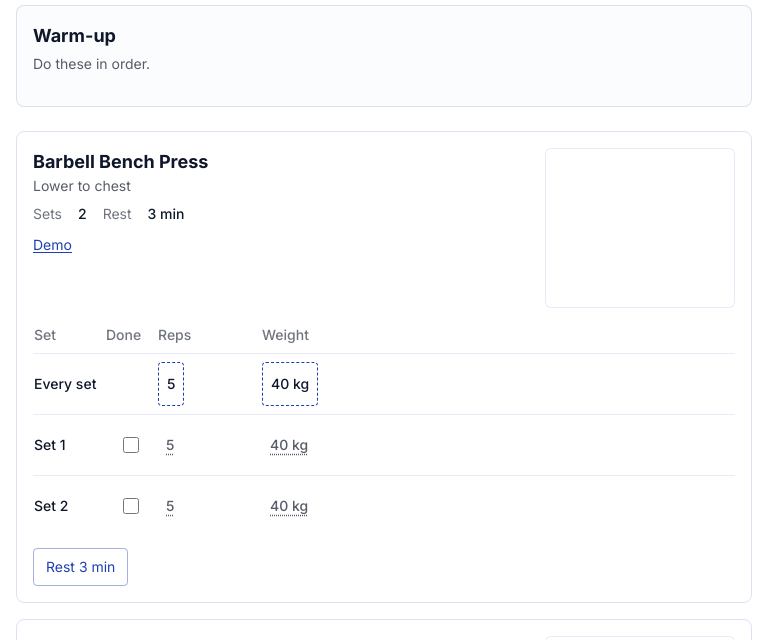
Test case: WorkoutApp › should warn that an adjustment reaches the other day sharing the exercise
(page scrolled)
Click the button named "change weight for every set of Barbell Bench Press" at coordinates (290, 384), box [262, 362, 318, 406]
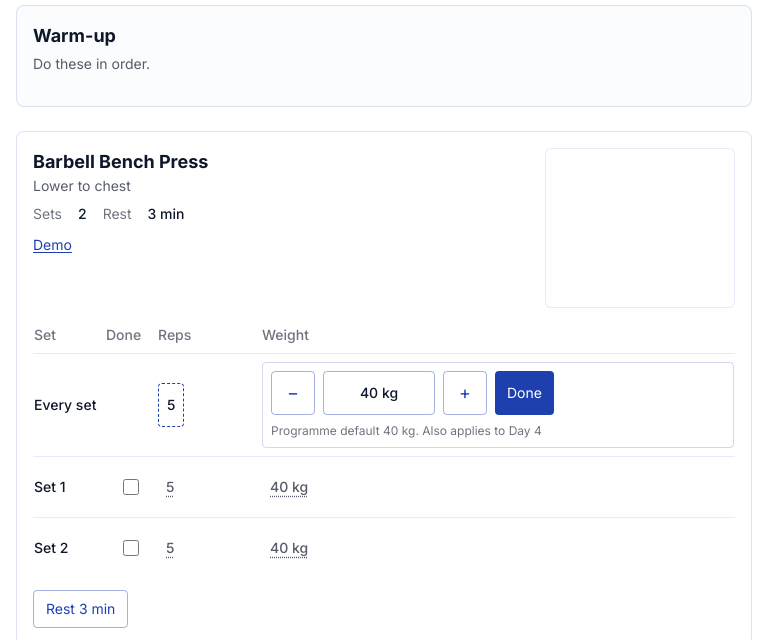
expect the text "Programme default 40 kg. Also applies to Day 4" is shown: met, box [271, 423, 542, 438]
